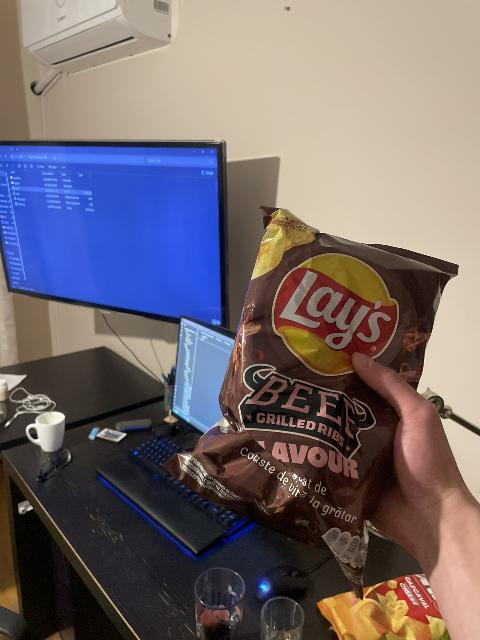Lays Beef Grilled Ribs 125g: (162, 208, 457, 600)
